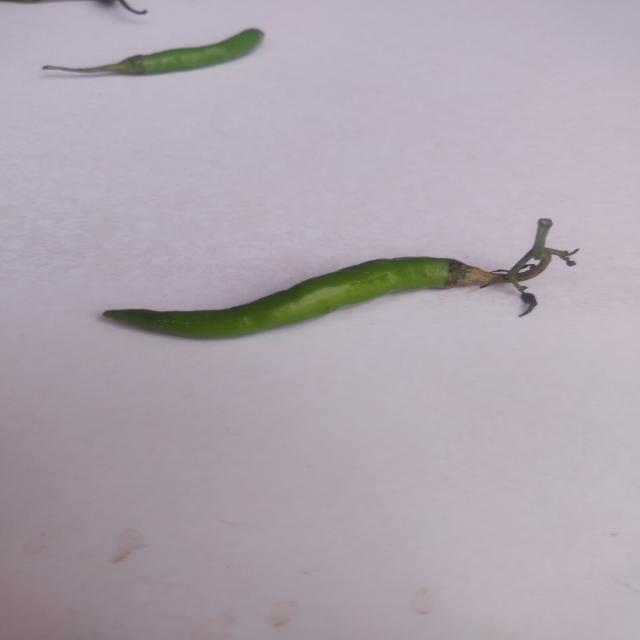Green Chilly: (75, 212, 614, 376)
